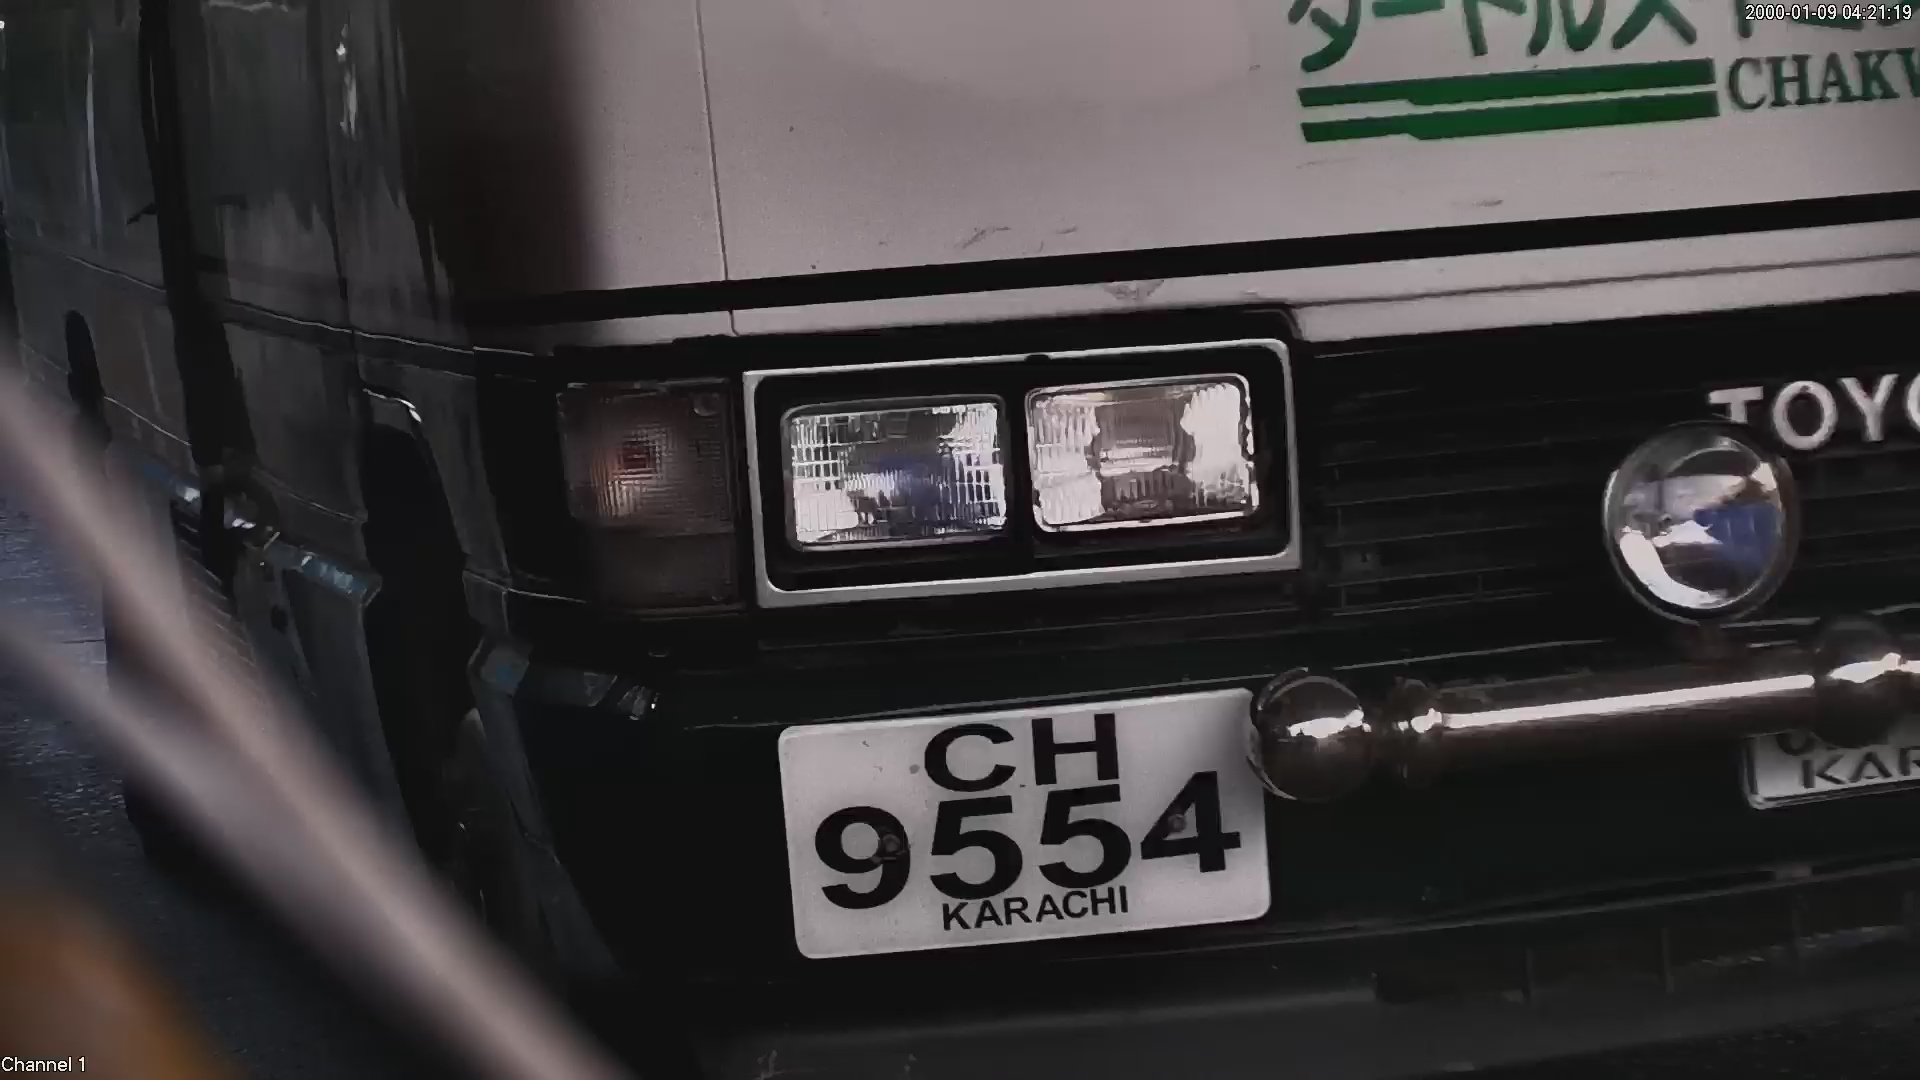Number_Plate: (734, 688, 1308, 957)
Undefined: (713, 346, 1319, 586)
